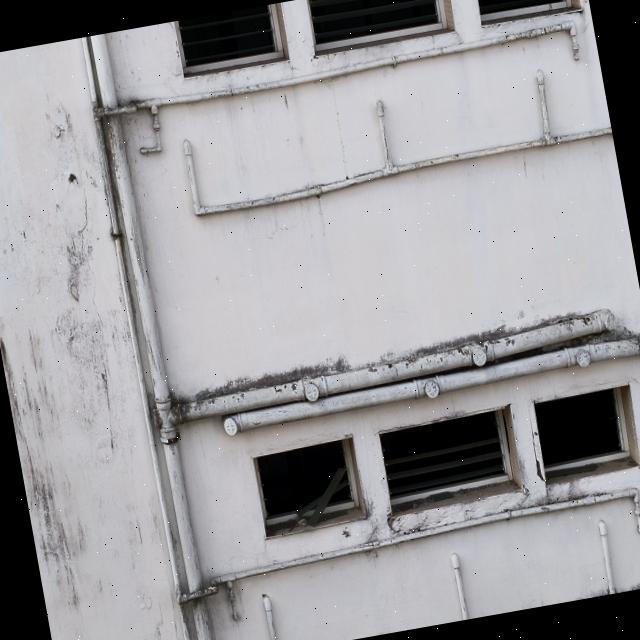stain_mould: (90, 15, 630, 640)
